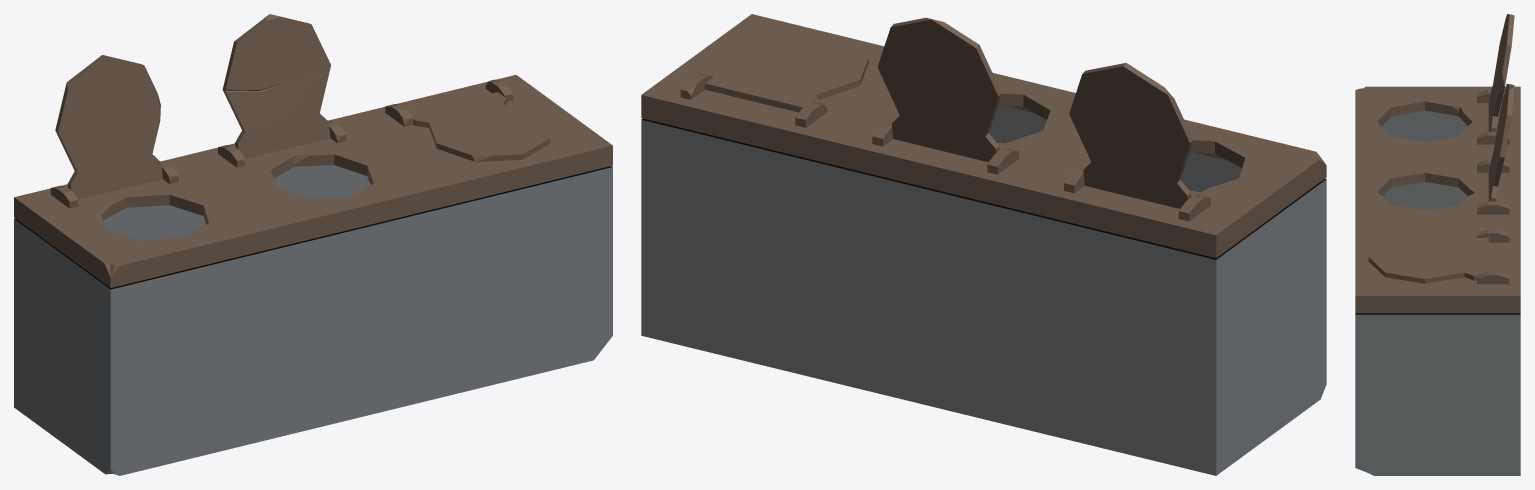
Rendered from Latrines.FBX.
3 renders of one model, left to right at view 1: azimuth 30°, elevation 25°; view 2: azimuth 150°, elevation 25°; view 3: azimuth 270°, elevation 25°, orthographic. The views are drawn at different scales.
Parts seen in each view (by area): view 1: Latrines, Couvercle_B, Couvercle_A, Couvercle_C; view 2: Latrines, Couvercle_A, Couvercle_B, Couvercle_C; view 3: Latrines, Couvercle_C, Couvercle_B, Couvercle_A.
Part boxes in pixels (x1,y1,x2,y2): Latrines: [14, 75, 612, 475]; Couvercle_B: [222, 14, 330, 158]; Couvercle_A: [55, 55, 162, 199]; Couvercle_C: [410, 92, 550, 161]; Latrines: [641, 14, 1326, 475]; Couvercle_A: [1069, 63, 1193, 208]; Couvercle_B: [877, 17, 1001, 162]; Couvercle_C: [705, 35, 868, 112]; Latrines: [1355, 86, 1520, 475]; Couvercle_C: [1368, 235, 1488, 283]; Couvercle_B: [1488, 84, 1514, 201]; Couvercle_A: [1488, 14, 1514, 131].
Bounding box in the file's own units: 150 × 95.75 × 50.
1 material, 1 textured.
